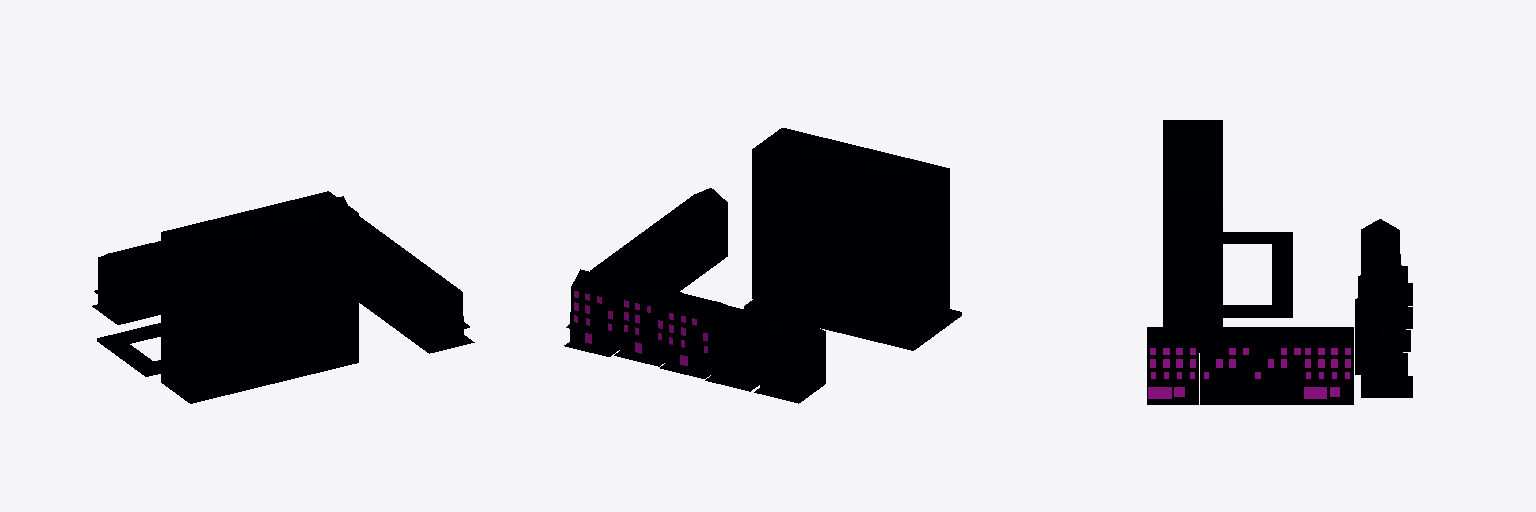
File: singlea.obj
3 views of the same model, side by side, from view 1: azimuth 30°, elevation 25°; view 2: azimuth 150°, elevation 25°; view 3: azimuth 270°, elevation 25° (orthographic).
Parts seen in each view (by area): view 1: Plane, Plane.083, Plane.072, Plane.075, Plane.001, Plane.074; view 2: Plane, Plane.083, Plane.064, Plane.067, Plane.001, Plane.066, Plane.065, Plane.075, Plane.072, Plane.074, Plane.073; view 3: Plane, Plane.072, Plane.073, Plane.074, Plane.075, Plane.064, Plane.001, Plane.066, Plane.067, Plane.065, Plane.083.
Boxes of the visible parts, x1=… form: Plane: x1=161, y1=191, x2=358, y2=403; Plane.083: x1=92, y1=243, x2=160, y2=324; Plane.072: x1=403, y1=266, x2=474, y2=353; Plane.075: x1=376, y1=247, x2=434, y2=333; Plane.001: x1=97, y1=323, x2=173, y2=376; Plane.074: x1=359, y1=228, x2=410, y2=314; Plane: x1=752, y1=128, x2=949, y2=334; Plane.083: x1=754, y1=316, x2=825, y2=403; Plane.064: x1=564, y1=269, x2=627, y2=356; Plane.067: x1=705, y1=304, x2=769, y2=391; Plane.001: x1=744, y1=281, x2=961, y2=350; Plane.066: x1=660, y1=292, x2=725, y2=378; Plane.065: x1=614, y1=279, x2=681, y2=366; Plane.075: x1=642, y1=207, x2=701, y2=291; Plane.072: x1=668, y1=188, x2=727, y2=274; Plane.074: x1=618, y1=226, x2=675, y2=289; Plane.073: x1=590, y1=245, x2=650, y2=283; Plane: x1=1163, y1=120, x2=1222, y2=352; Plane.072: x1=1147, y1=327, x2=1198, y2=404; Plane.073: x1=1302, y1=327, x2=1353, y2=404; Plane.074: x1=1251, y1=327, x2=1303, y2=404; Plane.075: x1=1200, y1=327, x2=1251, y2=404; Plane.064: x1=1361, y1=311, x2=1412, y2=397; Plane.001: x1=1223, y1=232, x2=1292, y2=317; Plane.066: x1=1358, y1=265, x2=1410, y2=351; Plane.067: x1=1361, y1=243, x2=1412, y2=328; Plane.065: x1=1355, y1=288, x2=1407, y2=374; Plane.083: x1=1361, y1=219, x2=1412, y2=305.
Size of the model in its own units: 53.59 by 25.26 by 40.68.